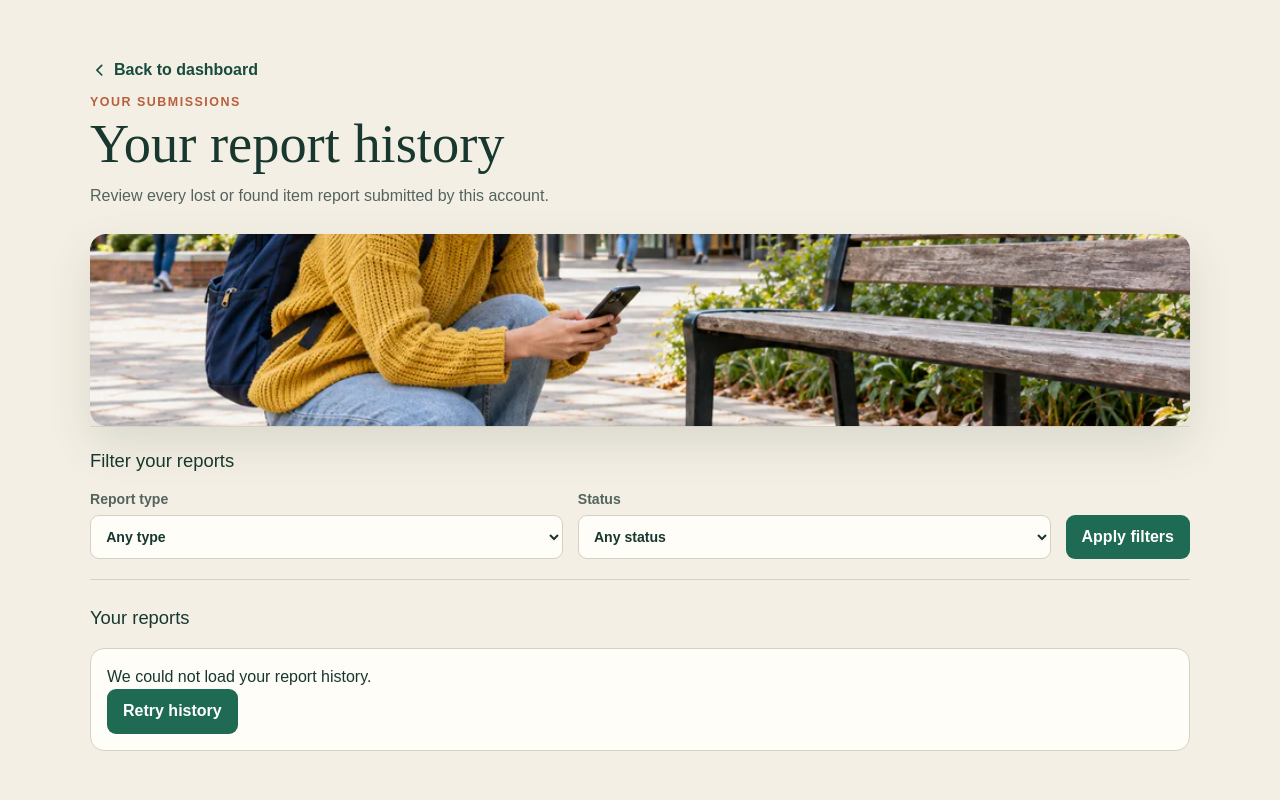
owner report history › offers a generic retry and keeps private failures hidden
Expected: the message shows "We could not load your report history.", [107, 668, 371, 685]
Click the button "Retry history" at (172, 711), box [107, 689, 238, 734]
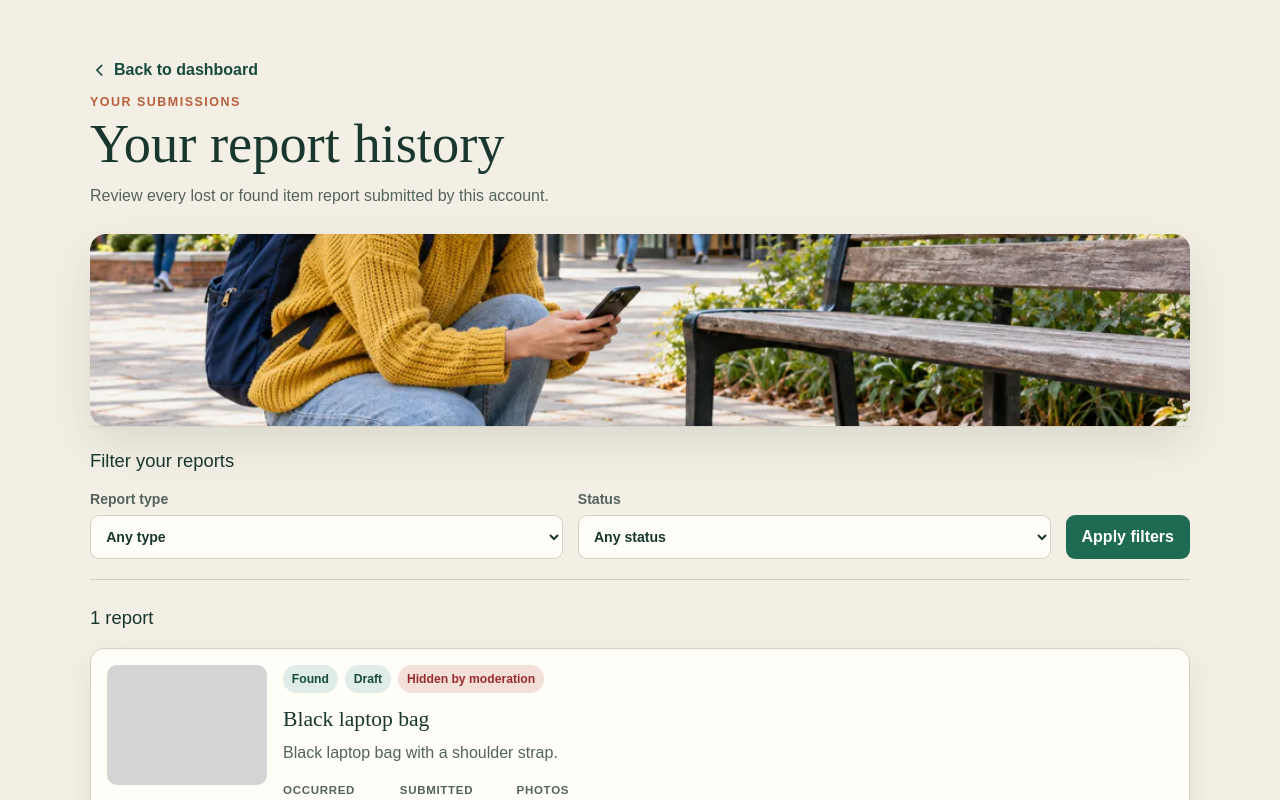
Result: the link "Black laptop bag" is shown at [283, 707, 429, 731]
